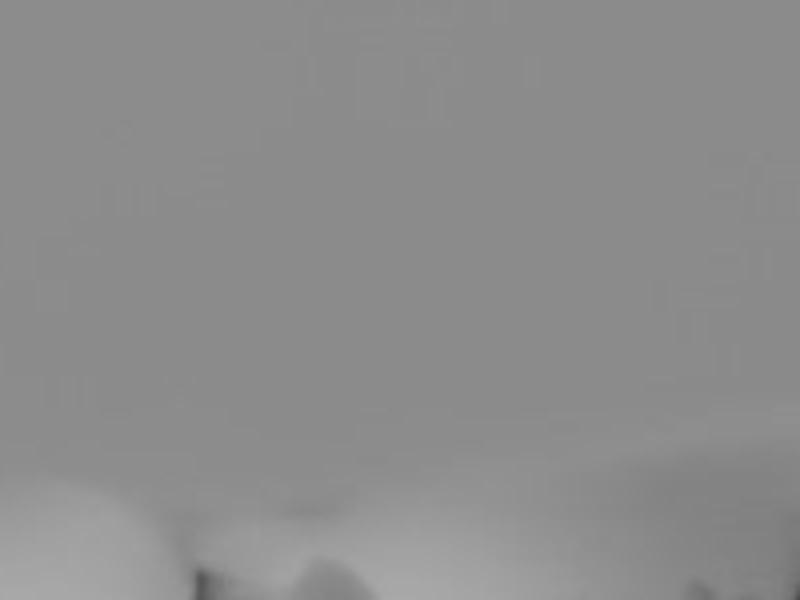defect: (292, 567, 358, 600), (682, 580, 714, 600)
